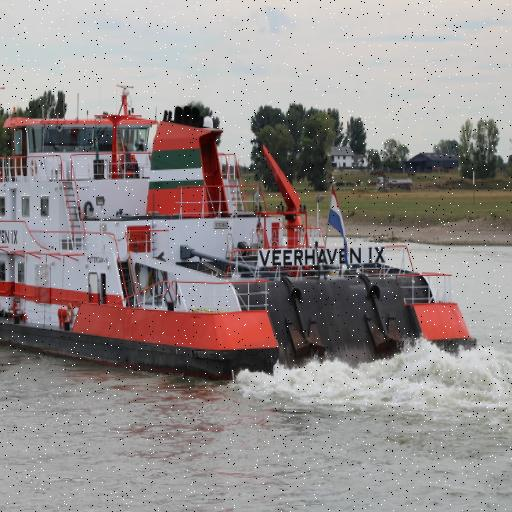tugboat: (1, 83, 486, 391)
